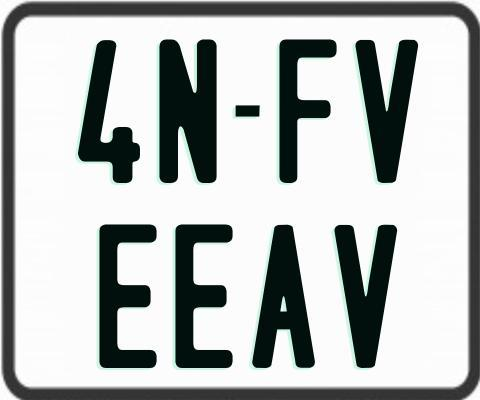4: (75, 40, 143, 188)
A: (250, 225, 317, 368)
E: (99, 223, 161, 372), (174, 224, 237, 370)
F: (277, 40, 335, 186)
N: (158, 39, 222, 186)
V: (355, 39, 424, 183), (333, 222, 398, 371)
